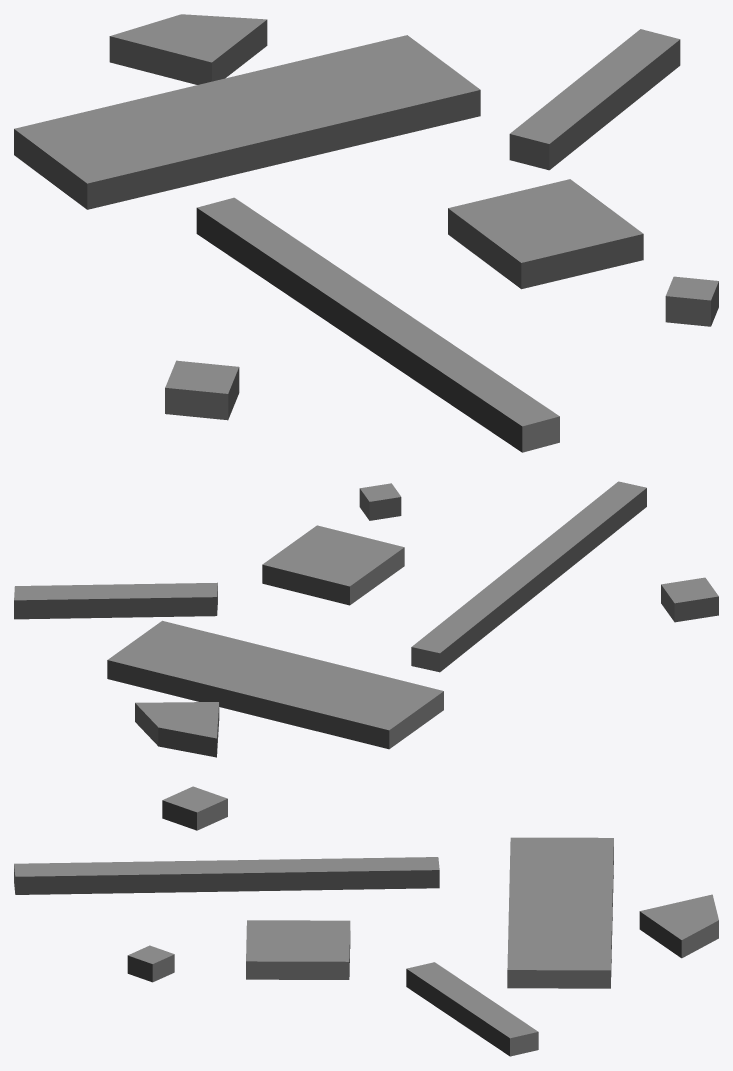
The model's file is rubble_01.fbx.
3 views of the same model, one above another, from view 1: azimuth 30°, elevation 25°; view 2: azimuth 150°, elevation 25°; view 3: azimuth 270°, elevation 25° (orthographic). The views are drawn at different scales.
Parts seen in each view (by area): view 1: rubble_01; view 2: rubble_01; view 3: rubble_01.
Boxes of the visible parts, box(x1,y1,x2,y2) form: rubble_01: box(14, 14, 718, 452); rubble_01: box(14, 481, 718, 757); rubble_01: box(14, 786, 718, 1056).
Size of the model in its own units: 7.86 by 0.2654 by 9.29.
1 material, 1 textured.
